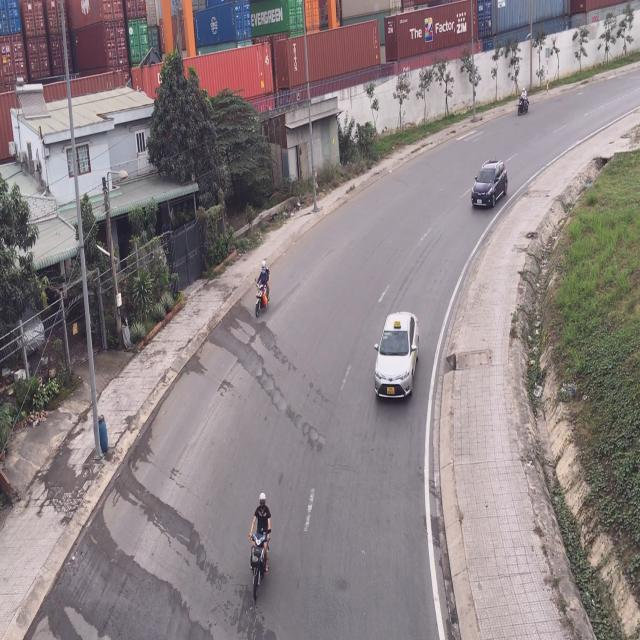car: (372, 310, 416, 401), (471, 160, 508, 212)
motorbike: (250, 492, 272, 596), (253, 260, 270, 319), (515, 87, 529, 115)
